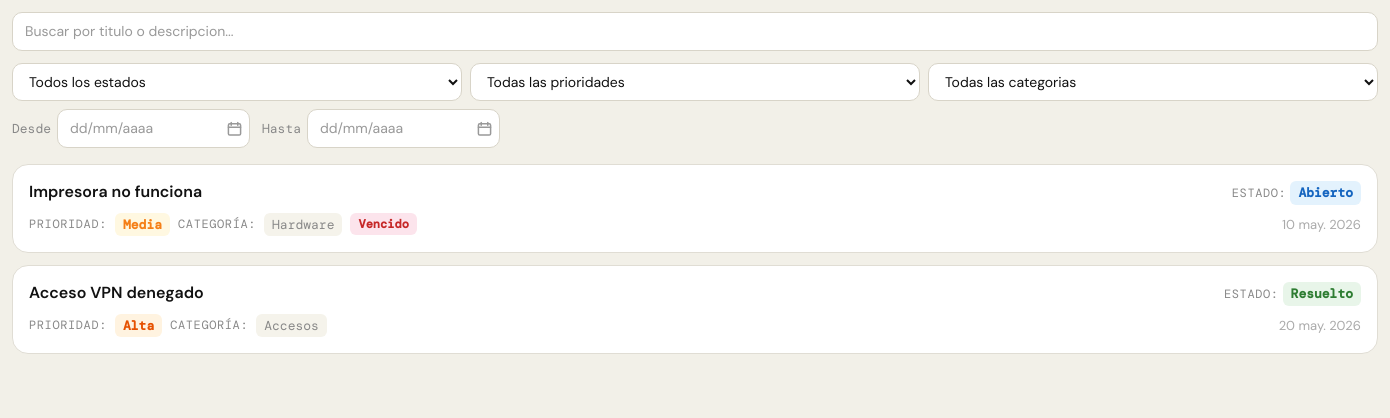
TicketList — busqueda y filtros de fecha › filtra por fecha desde
This screenshot has width=1390, height=418.
Note: dateFrom is after the first ticket
Step 1. Type "15/05/2026" into the field with placeholder "dd/mm/aaaa" next to "Desde" → (154, 128), box [57,109,250,148]
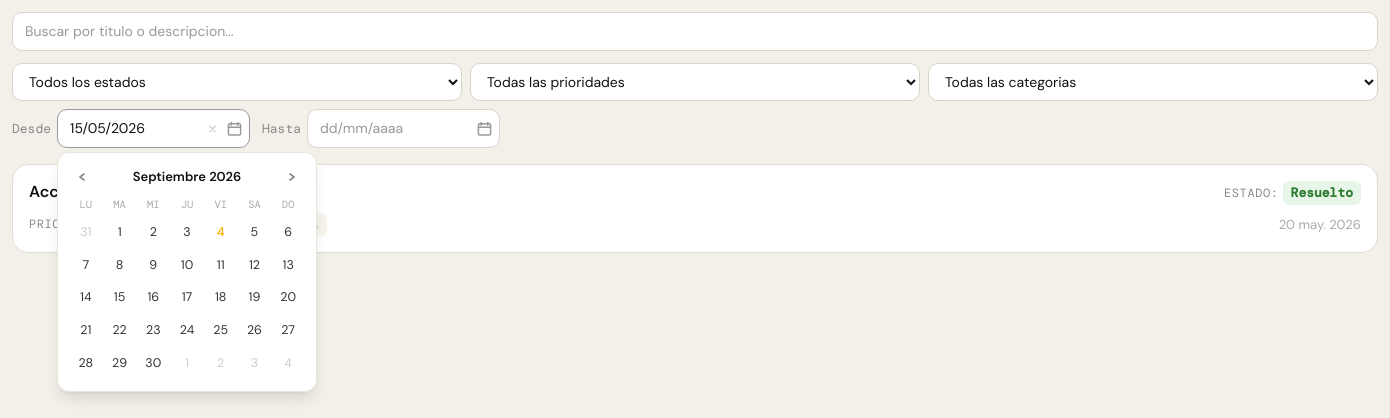
Expected: the text "Acceso VPN denegado" is shown, [29,181,204,202]
Expected: the button "Impresora no funciona" is gone
